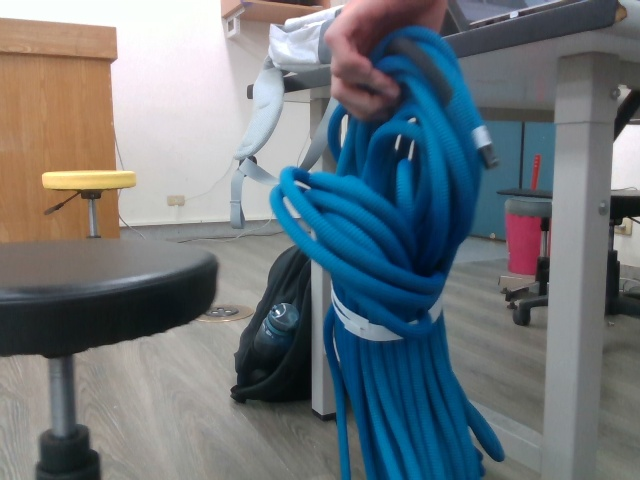rope: (263, 21, 512, 480)
